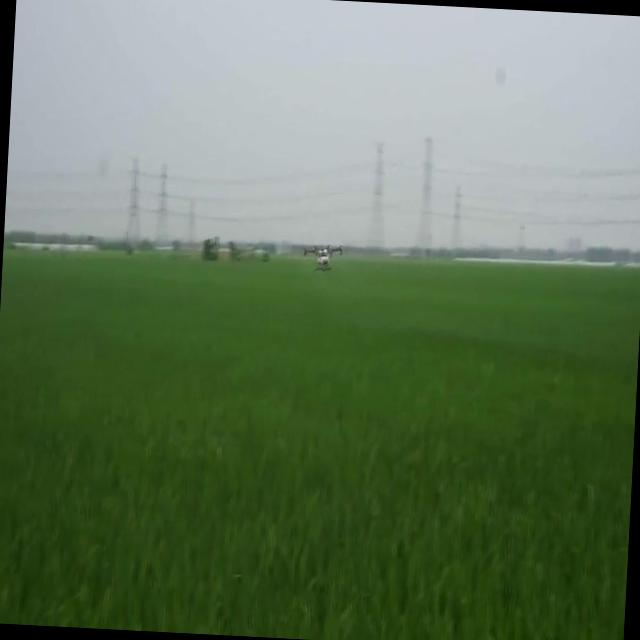drone: (298, 238, 347, 277)
